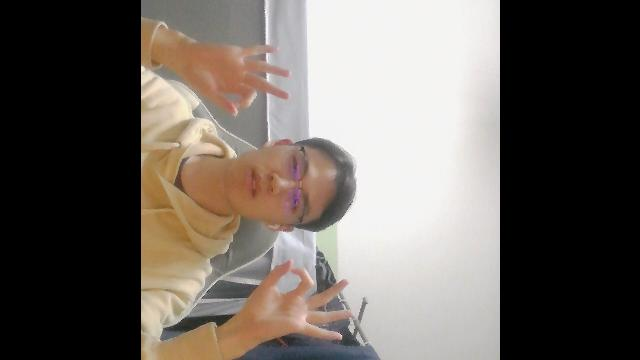ok: (239, 257, 353, 344), (186, 40, 294, 114)
